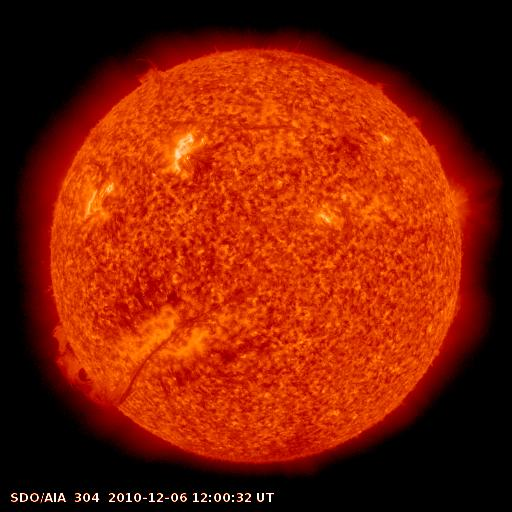prominence: (40, 315, 123, 415), (404, 107, 451, 165), (127, 44, 177, 92), (367, 68, 401, 101)
